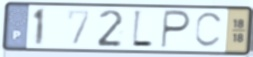1: (31, 5, 50, 49)
2: (94, 8, 126, 48)
7: (65, 8, 91, 47)
C: (193, 11, 226, 50)
L: (130, 8, 155, 50)
P: (159, 9, 193, 51)
